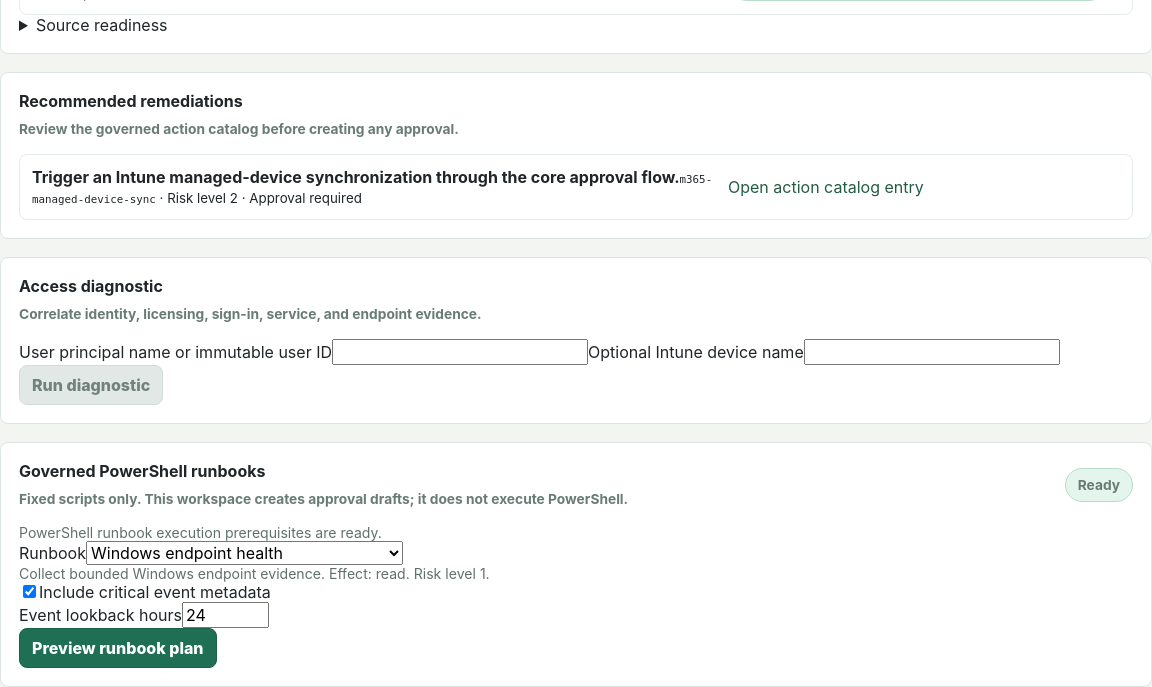
Test: Microsoft Administrator workspace › runs an access diagnostic and presents the probable cause and governed action
(page scrolled)
Type "adele@example.test" into the field labelled "User principal name or immutable user ID" at (460, 352), box [332,339,588,365]
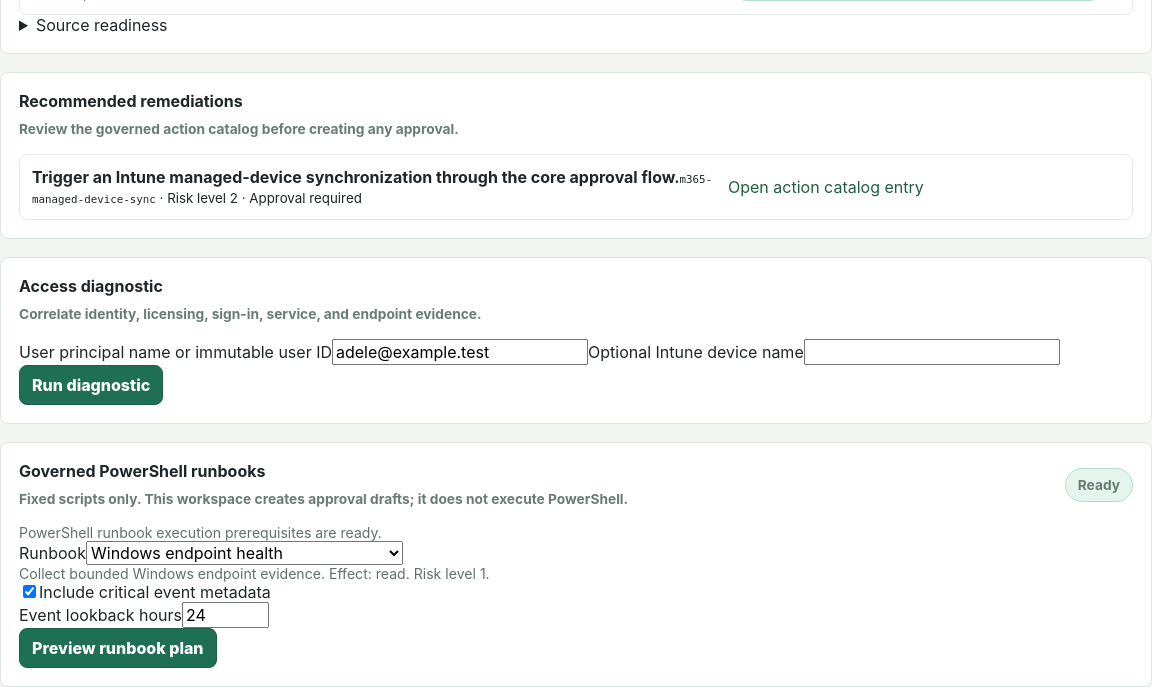
Type "LAPTOP-001" into the field labelled "Optional Intune device name" at (932, 352), box [804,339,1060,365]
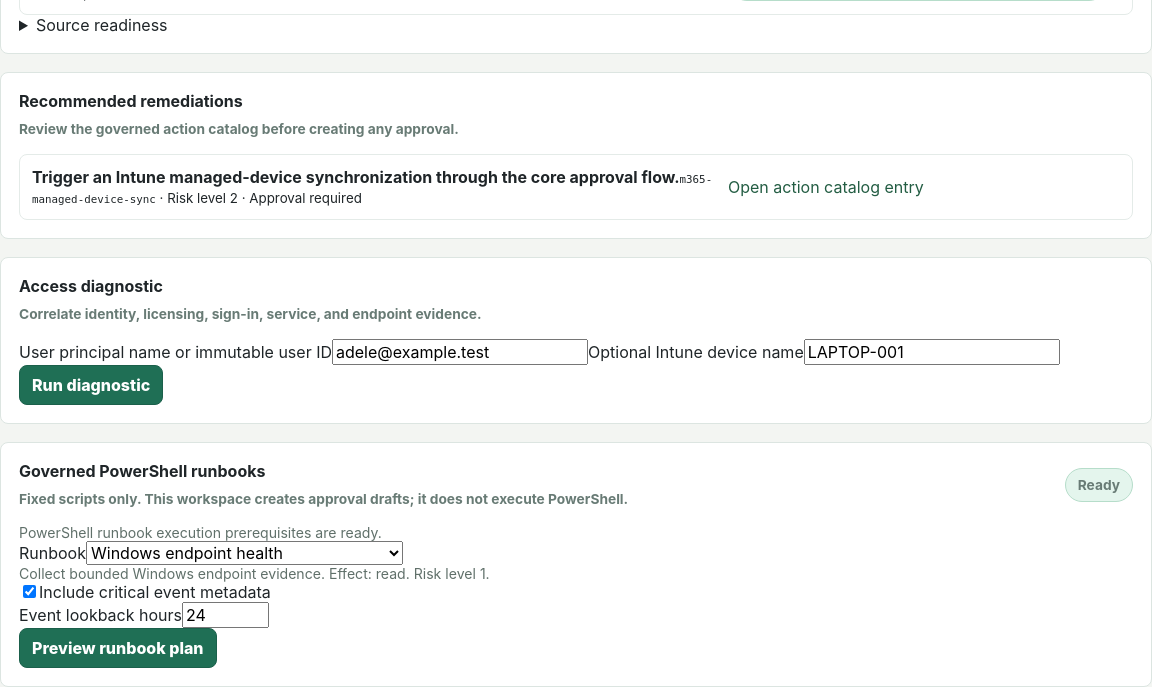
Click the button "Run diagnostic" at (91, 385), box [19,365,163,405]
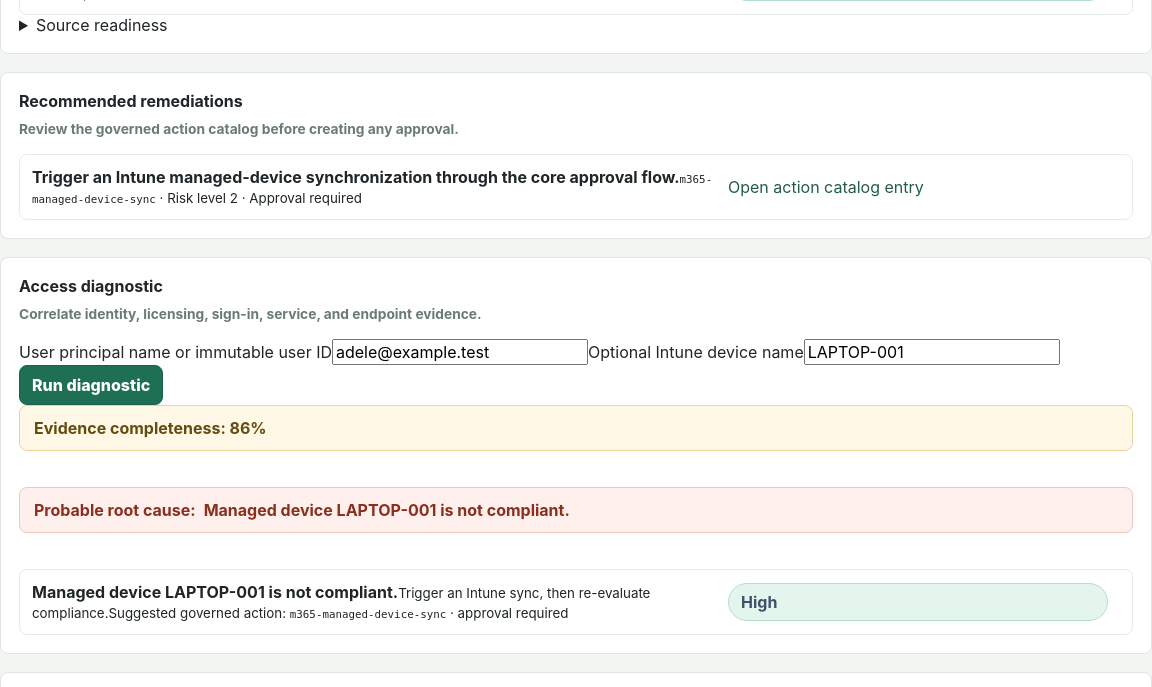
Expected: the text "m365-managed-device-sync" in the row of "· Risk level" is shown, [32,173,712,206]
Result: the message "Evidence completeness: 86%" is shown at [19,405,1133,451]
Result: the text "Managed device LAPTOP-001 is not compliant." is shown at [204,500,570,520]
